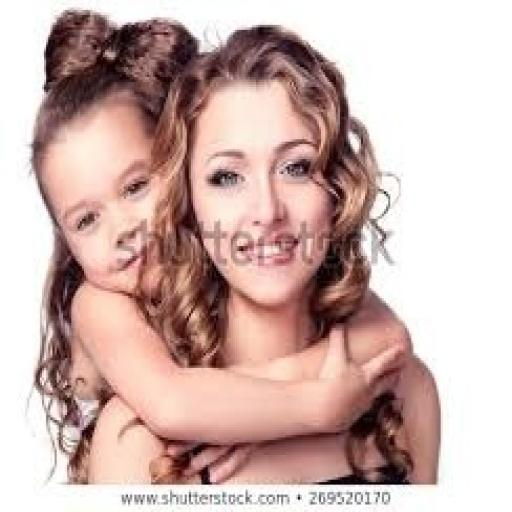hugging: (27, 8, 439, 484)
